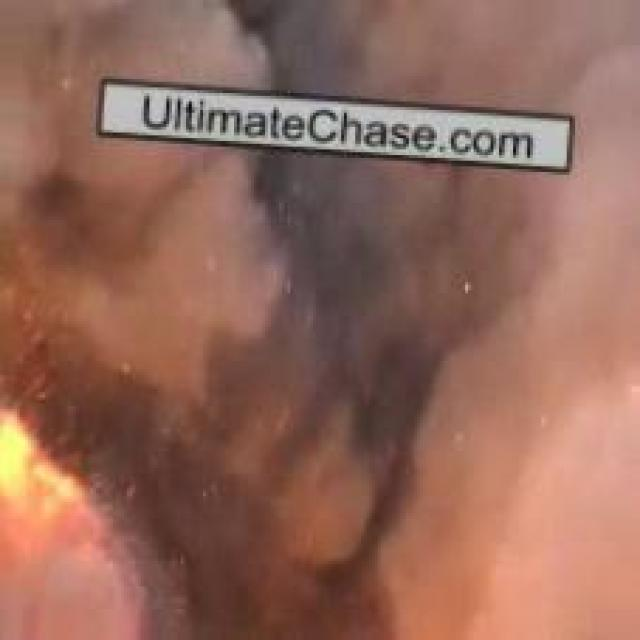smoke: (17, 8, 599, 597)
